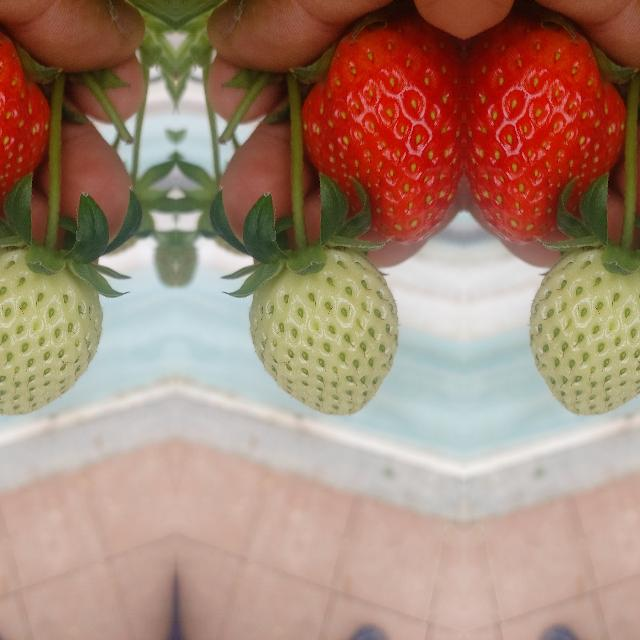Health_100: (463, 0, 634, 250), (292, 0, 462, 250), (0, 0, 58, 250)
Health_25: (248, 248, 398, 414), (528, 248, 640, 414), (0, 248, 102, 414)
